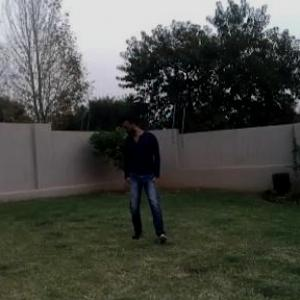follow: (124, 103, 164, 240)
